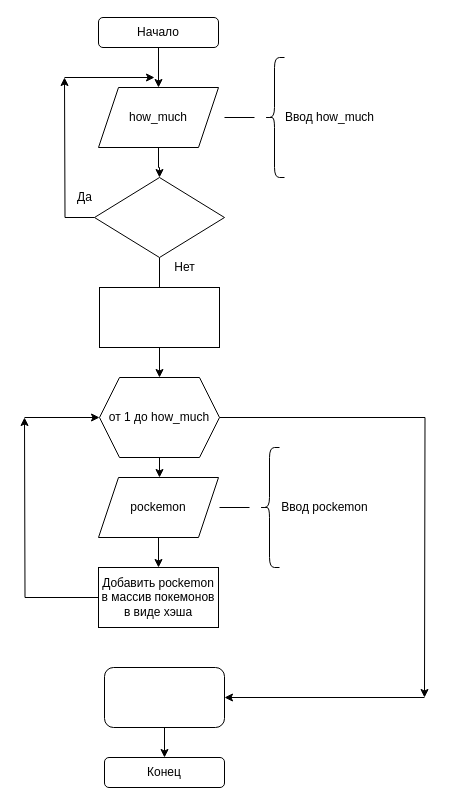
The diagram is 451 pixels wide and 805 high, and some of its shapes have lost their labels. Here are the shapes that lost their labels. From the top down, the centre of each, then its label:
At (159,217): "how_much < 1".
At (159,317): "pockemons = []".
At (164,697): "вернуть массив покемонов".
